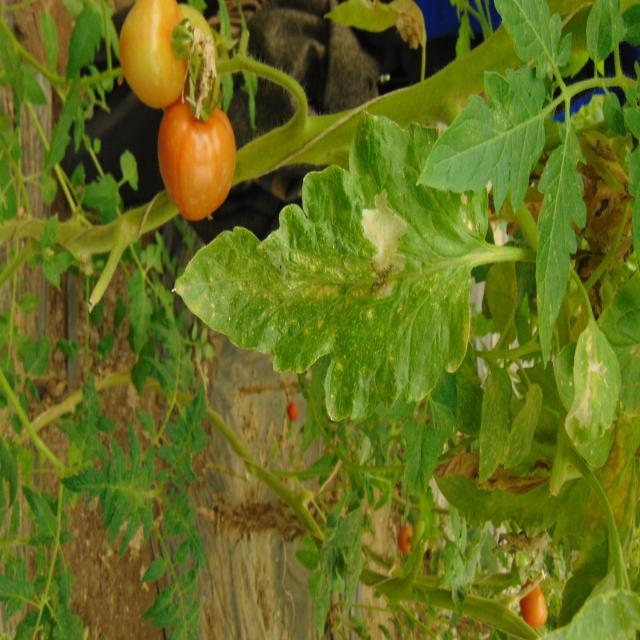Tuta absoluta: (358, 187, 417, 301)
